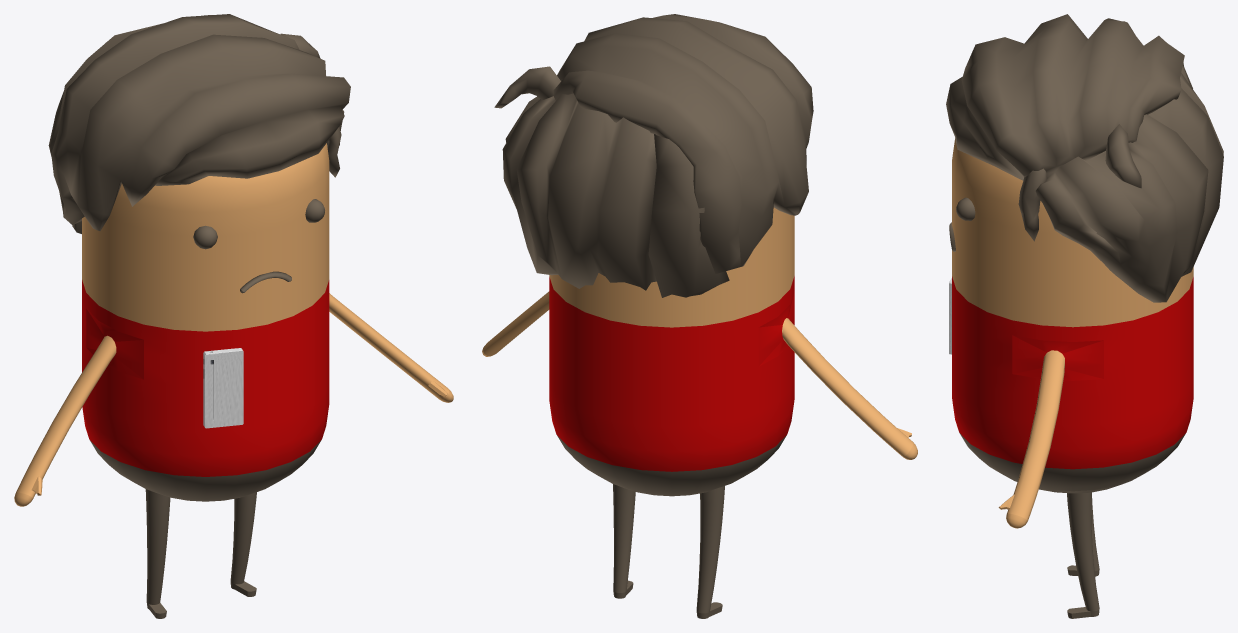
Rendered from hombre2.fbx.
3 renders of one model, left to right at view 1: azimuth 30°, elevation 25°; view 2: azimuth 150°, elevation 25°; view 3: azimuth 270°, elevation 25°, orthographic. The views are drawn at different scales.
Visible parts, largest first — view 1: Mesh1; view 2: Mesh1; view 3: Mesh1.
Boxes of the visible parts, left/top/right/bottom form: Mesh1: left=14, top=14, right=453, bottom=618; Mesh1: left=482, top=14, right=917, bottom=618; Mesh1: left=946, top=14, right=1223, bottom=618.
Size of the model in its own units: 1.4 by 1.76 by 0.7901.
Materials: 7 (4 with a texture image).
